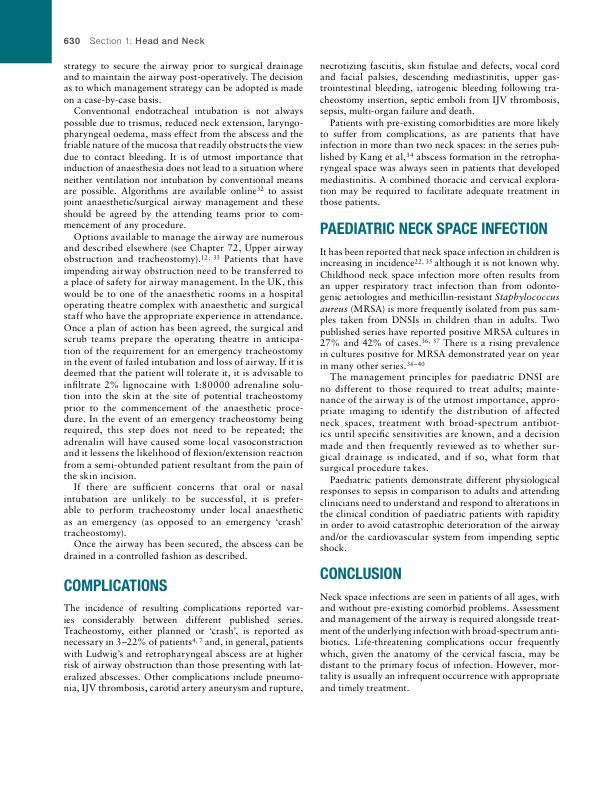header: (89, 36, 206, 45)
section-heading: (318, 221, 549, 236), (63, 577, 170, 593), (319, 566, 402, 580)
text: (61, 60, 304, 562), (318, 246, 561, 553), (319, 60, 561, 208), (318, 591, 560, 694), (62, 602, 305, 695)
